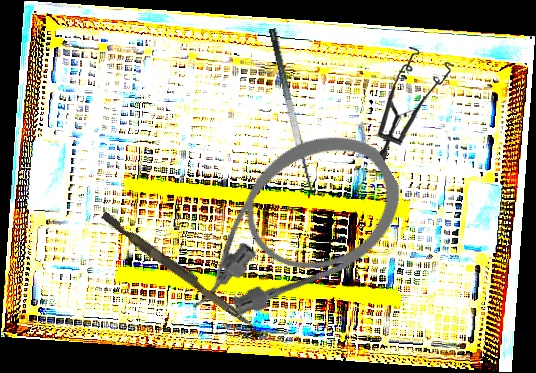Cannula: (149, 110, 422, 347)
Pusher: (98, 211, 260, 330)
Spatula Surgical: (267, 24, 327, 199)
Speculum: (371, 46, 458, 166)
